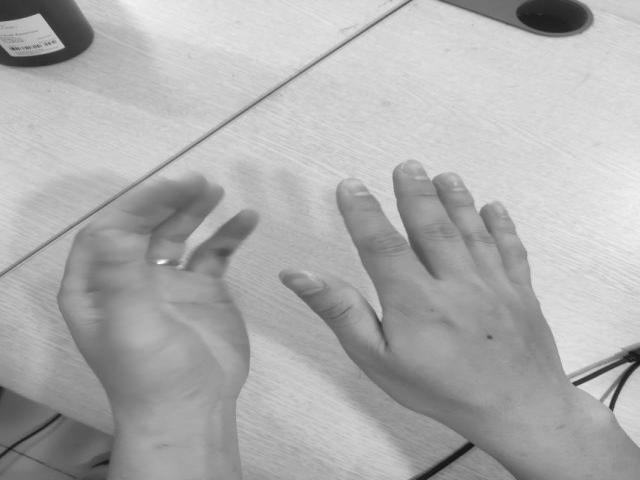not-gloved: (284, 162, 580, 406), (63, 175, 253, 418)
